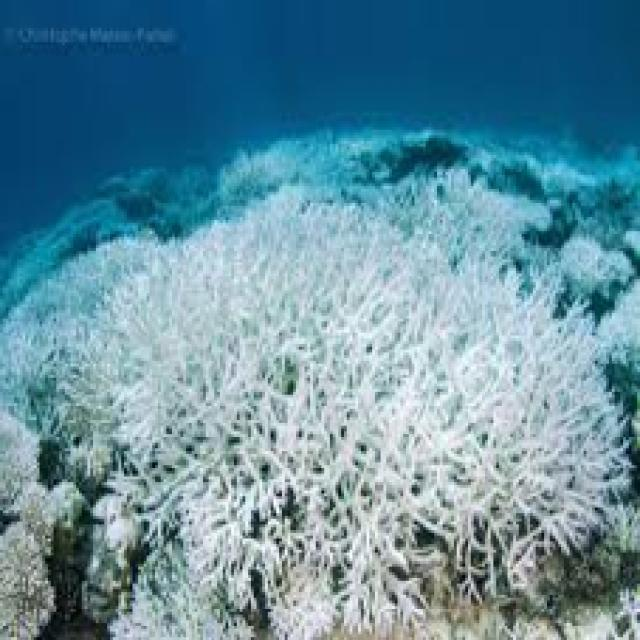Bleached: (102, 205, 603, 579), (1, 248, 115, 462), (111, 550, 255, 640), (1, 520, 55, 639), (271, 568, 345, 640), (344, 563, 428, 626), (598, 276, 640, 382), (558, 235, 633, 293), (410, 175, 511, 213), (1, 407, 32, 514), (23, 480, 88, 530), (241, 180, 350, 207), (606, 509, 640, 561), (569, 623, 640, 640)
